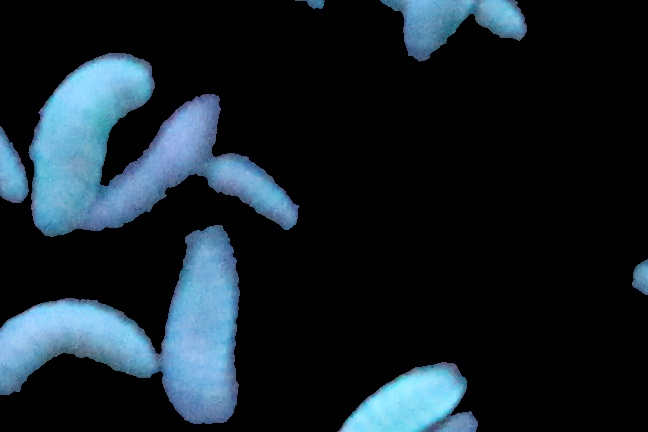larvae: (32, 55, 154, 235), (1, 301, 154, 417), (91, 98, 218, 233), (162, 235, 235, 425), (340, 357, 468, 432), (206, 157, 294, 235), (395, 1, 482, 69), (1, 89, 28, 204)
